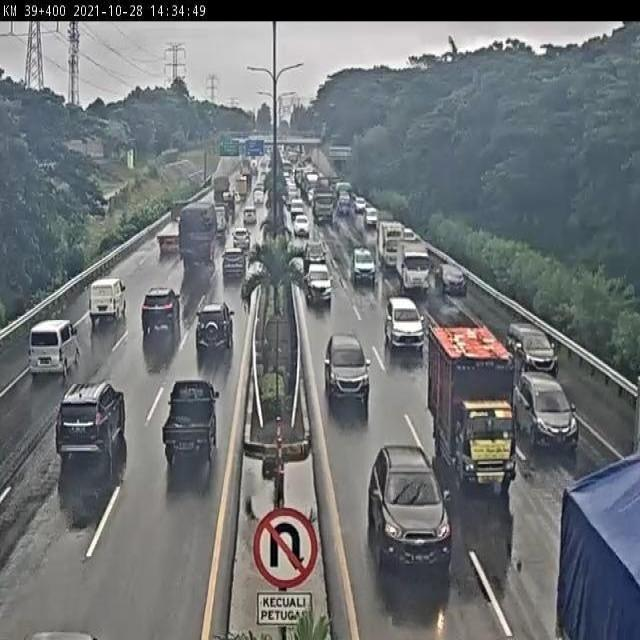Car: (370, 444, 451, 569), (56, 386, 125, 464), (516, 372, 578, 451), (162, 378, 220, 459), (324, 334, 371, 410), (506, 327, 554, 377), (385, 296, 424, 352), (141, 286, 182, 338), (196, 302, 234, 354), (306, 263, 333, 309), (435, 266, 468, 296), (352, 246, 375, 288), (222, 246, 248, 282), (301, 243, 328, 265), (231, 228, 251, 250), (294, 215, 310, 238), (243, 208, 257, 226), (365, 208, 379, 225), (356, 198, 366, 214)
Truck: (428, 326, 515, 496), (180, 202, 218, 264), (157, 202, 191, 256), (398, 241, 430, 290), (378, 220, 403, 267), (311, 185, 335, 224)
Van: (28, 320, 82, 377), (88, 278, 127, 326)
